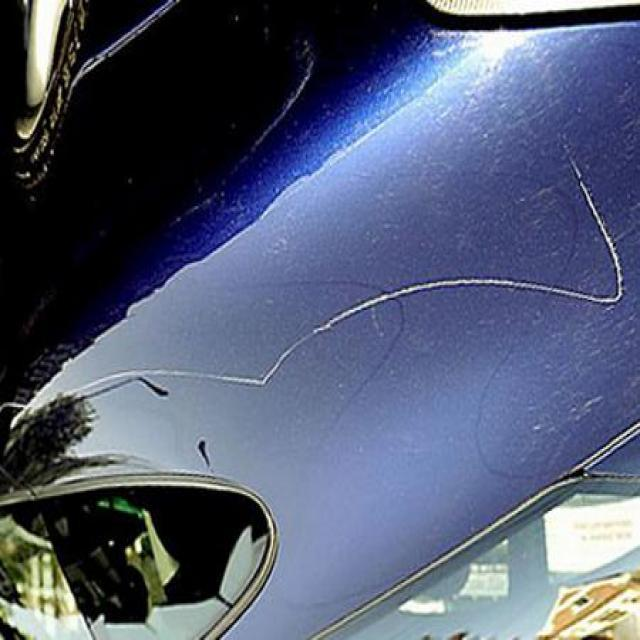scratch: (173, 266, 542, 414), (556, 126, 637, 320)
